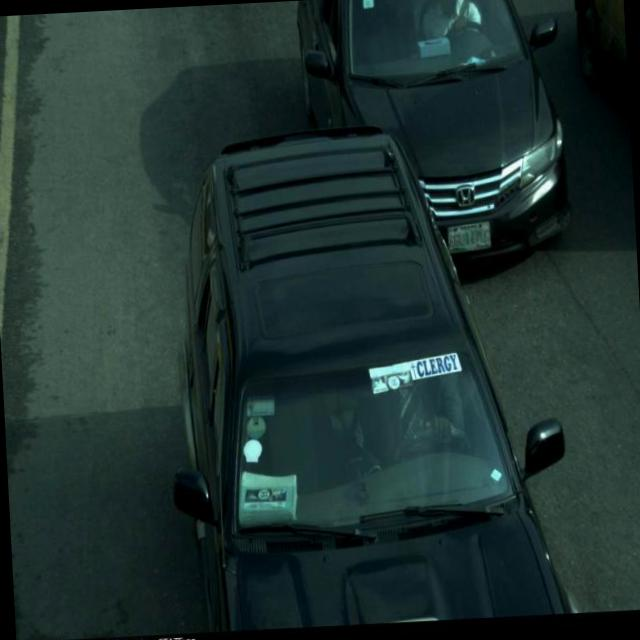person_with_seatbelt: (356, 339, 484, 487), (413, 0, 498, 73)
